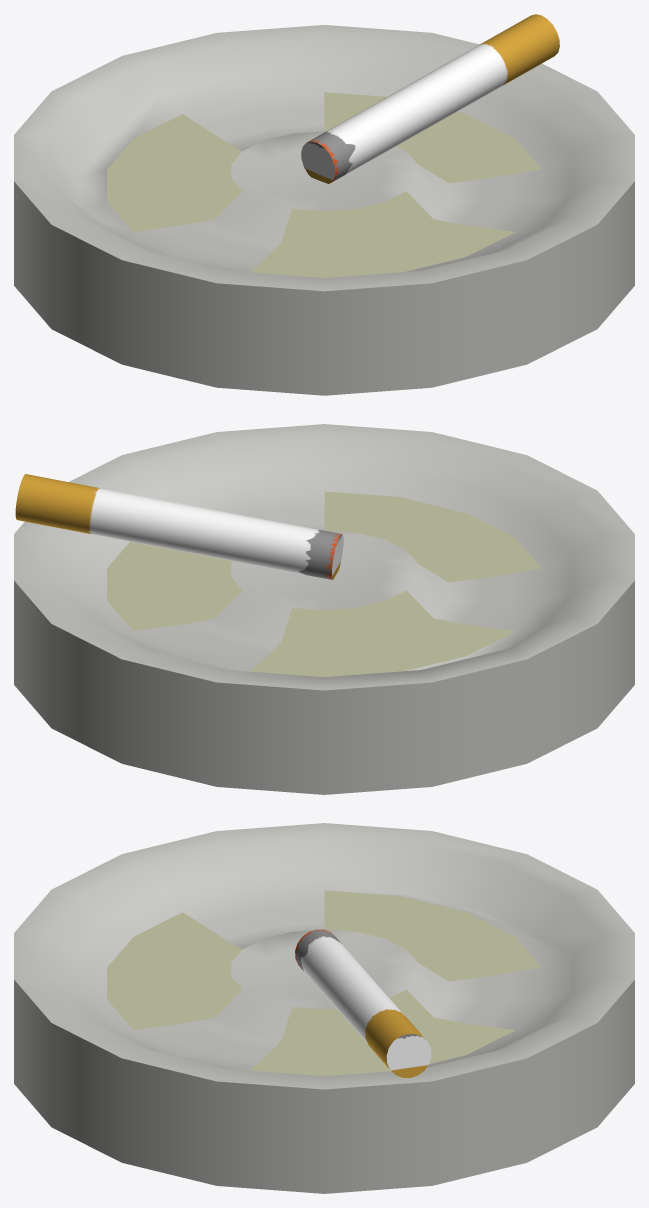
The model's file is Ashtray.fbx.
The picture shows the model from 3 angles, top to bottom: view 1: azimuth 30°, elevation 25°; view 2: azimuth 150°, elevation 25°; view 3: azimuth 270°, elevation 25°; orthographic projection.
Visible parts, largest first — view 1: tray, Cylinder001, Cylinder002; view 2: tray, Cylinder001, Cylinder002; view 3: tray, Cylinder001, Cylinder002.
Part boxes in pixels (x1,y1,x2,y2): tray: (14,25,634,395); Cylinder001: (107,92,541,277); Cylinder002: (301,14,559,183); tray: (14,424,634,794); Cylinder001: (107,491,541,677); Cylinder002: (15,474,343,579); tray: (14,823,634,1193); Cylinder001: (107,890,541,1076); Cylinder002: (295,929,431,1077).
Size of the model in its own units: 40.12 by 10.76 by 39.51.
Materials: 3 (3 with a texture image).
